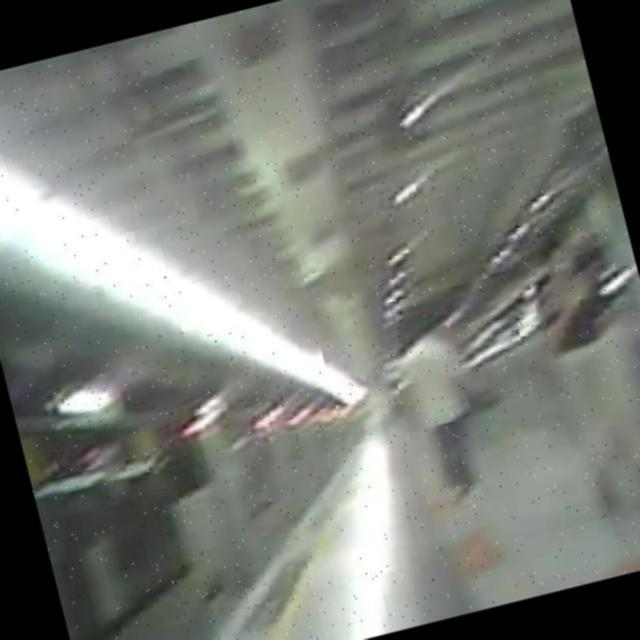person: (522, 225, 640, 527), (386, 312, 496, 506)
